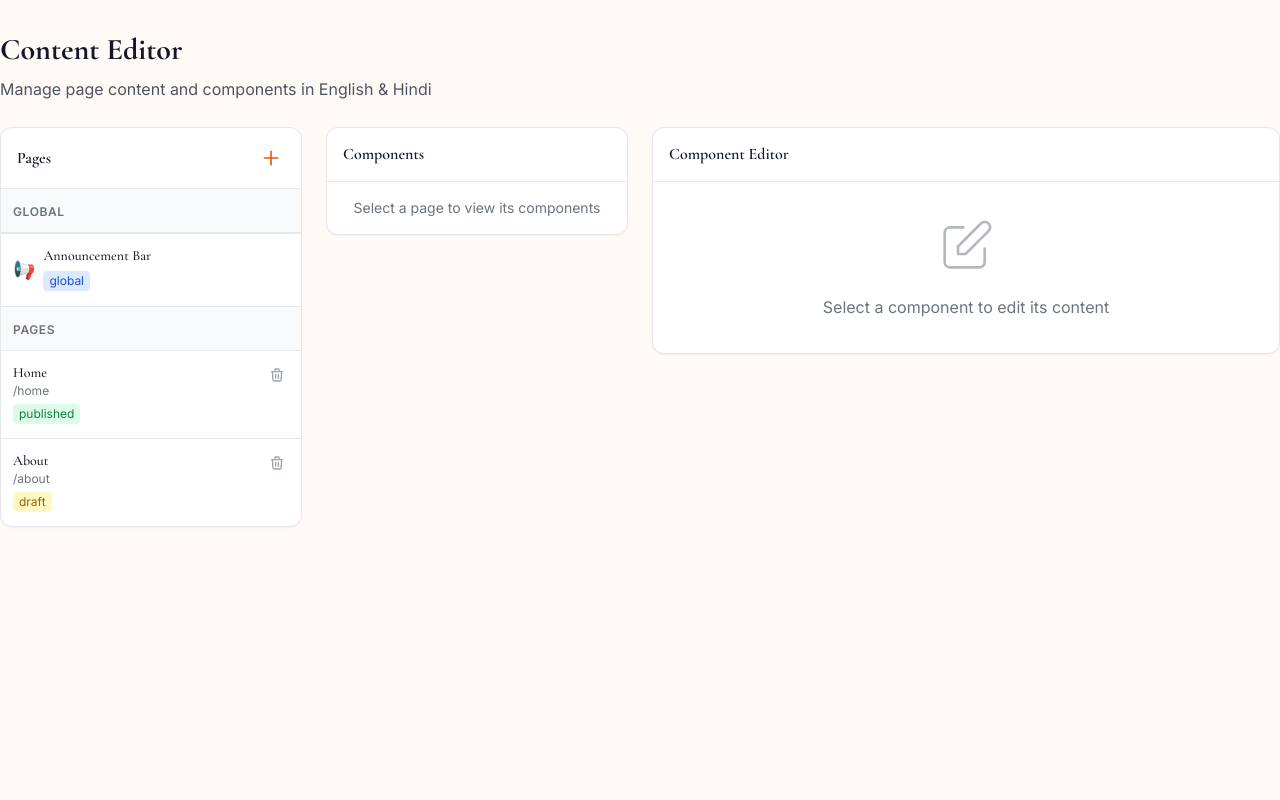
it: CMSEditorPage - Global Components › closes the Add Component modal via the close button
Click the heading "Home": (30, 372) [13,364,47,381]
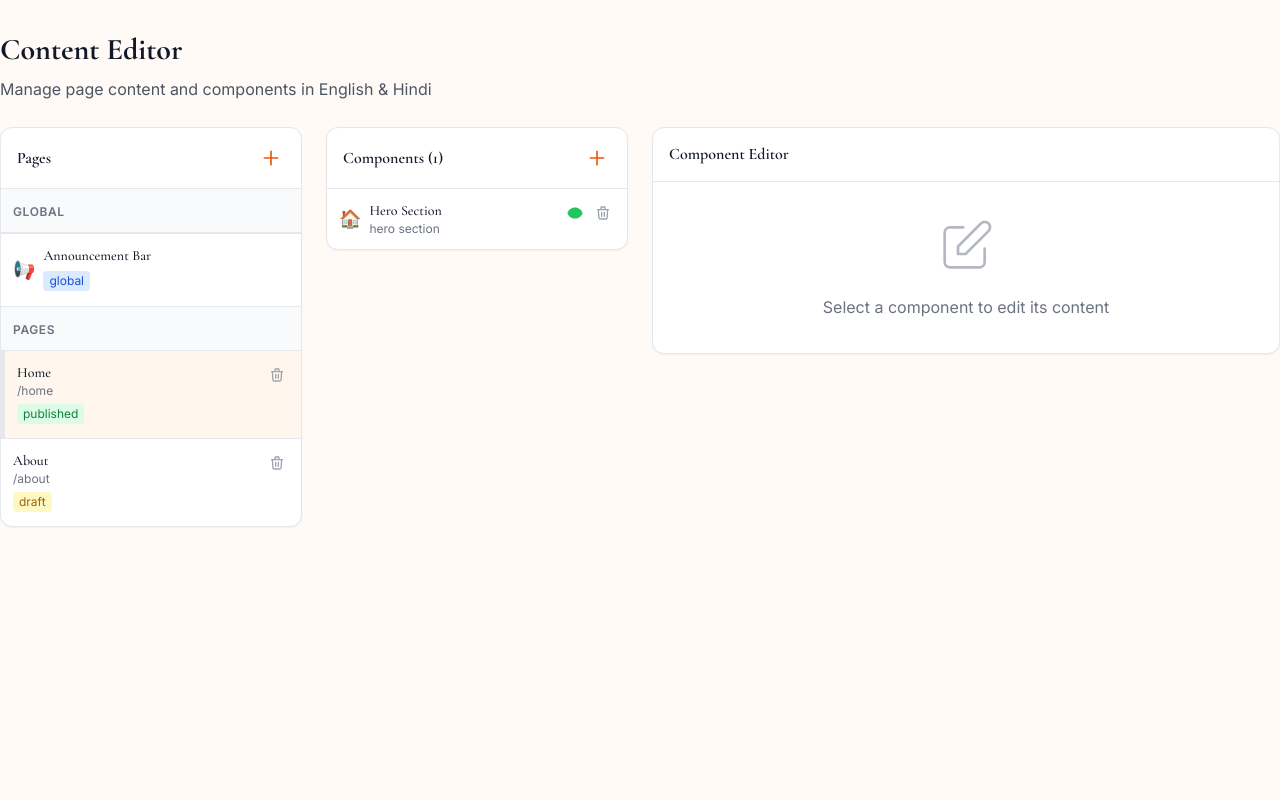
Open the Add Component modal
Click the button titled "Add Component": (597, 158) [583,144,611,172]
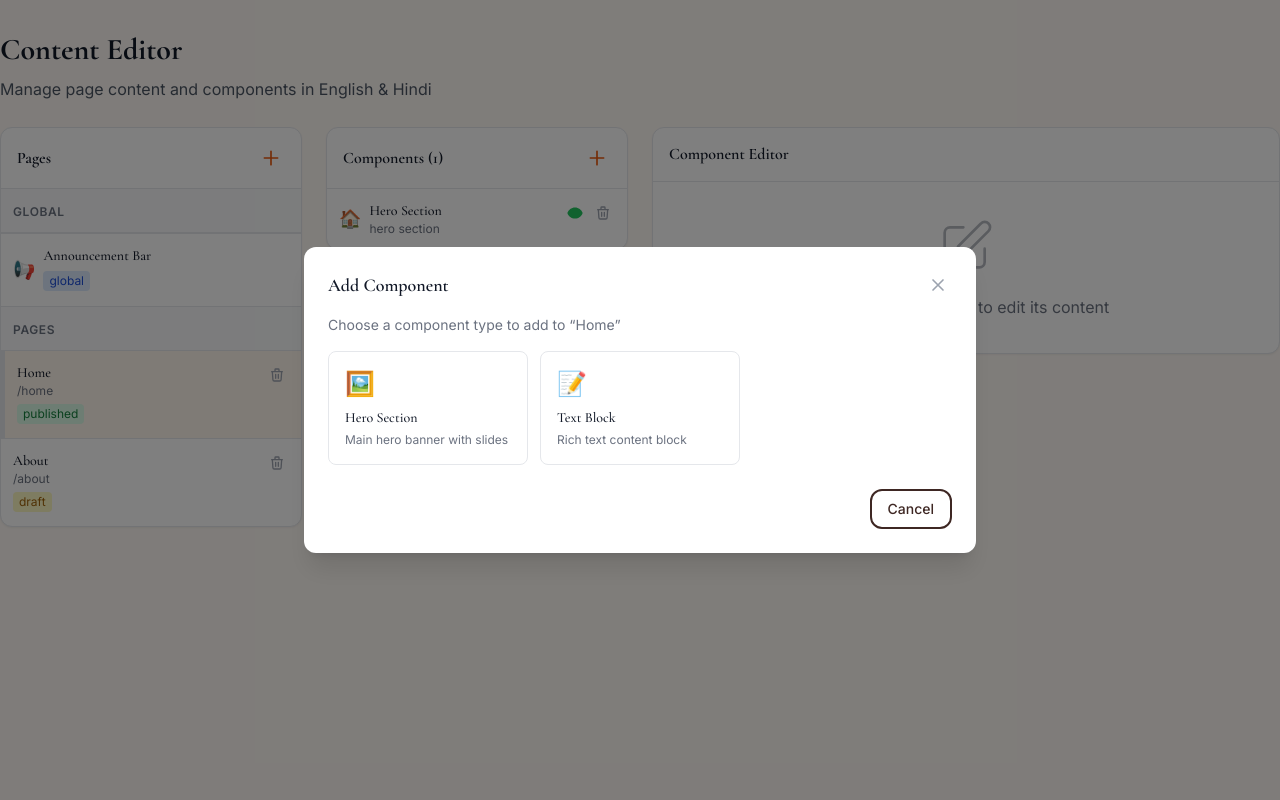
Now the heading "Add Component" is shown, box [328,271,449,299]
Click the close (X) button
Click the button titled "Close": (938, 285) [924,271,952,299]
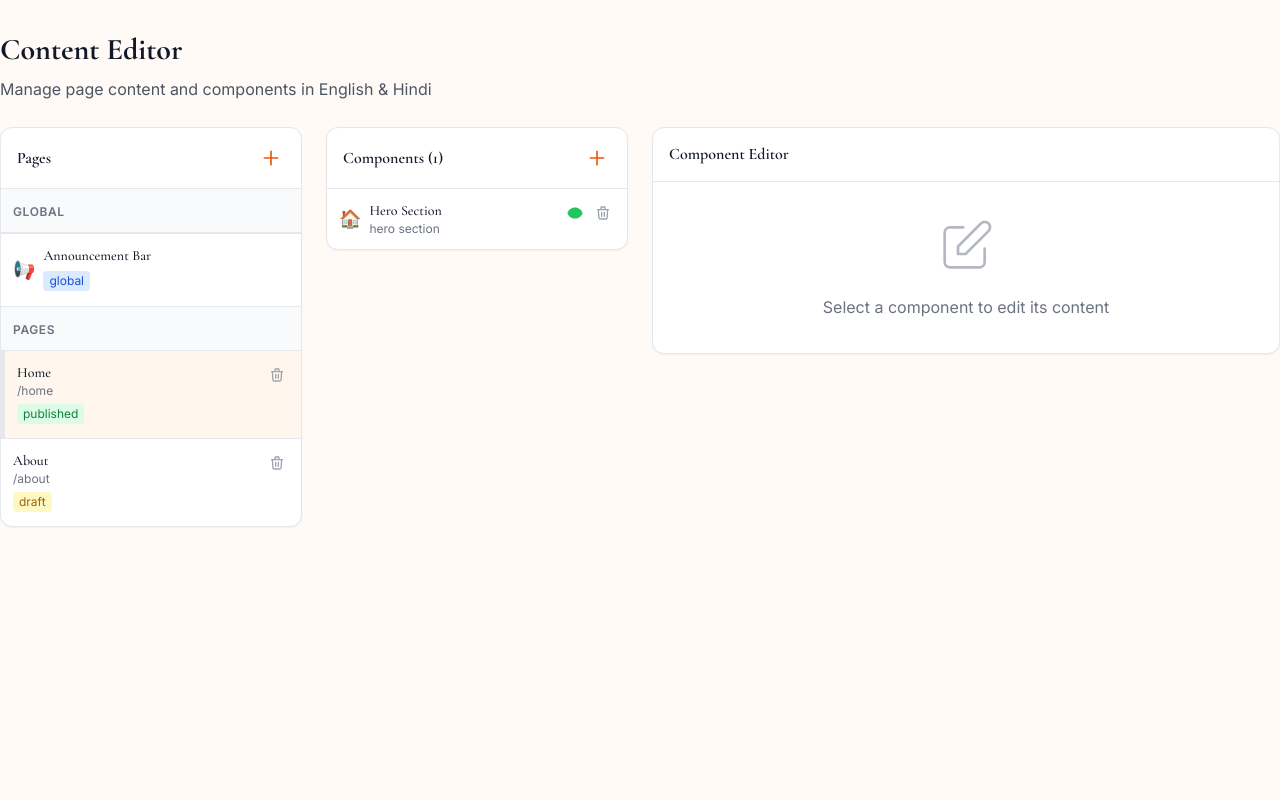
Now the button "Rich text content block" is gone
